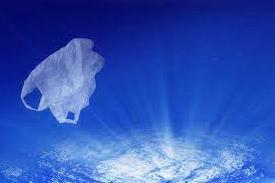Trash: (2, 20, 122, 135)
